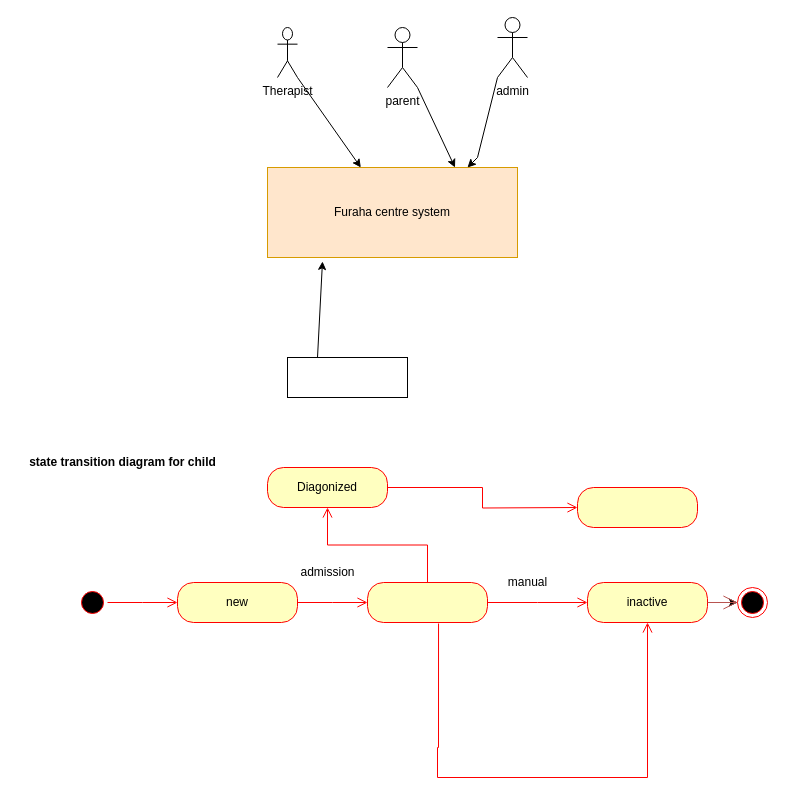
This 785x805 diagram has some shape labels left out. Here are the shapes that lost their labels. From the top down, the centre of each, then its label:
At point (347, 377): "payment gateway".
At point (637, 507): "Discharged".
At point (427, 602): "active".
